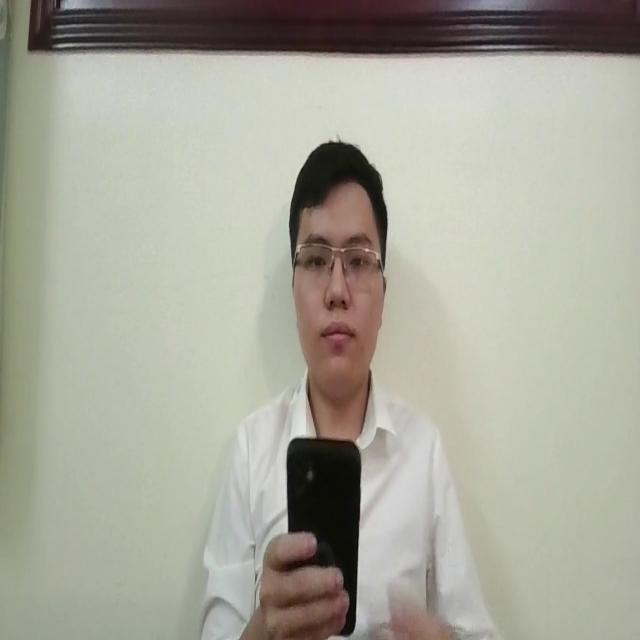phone: (285, 429, 364, 638)
student: (194, 138, 496, 640)
